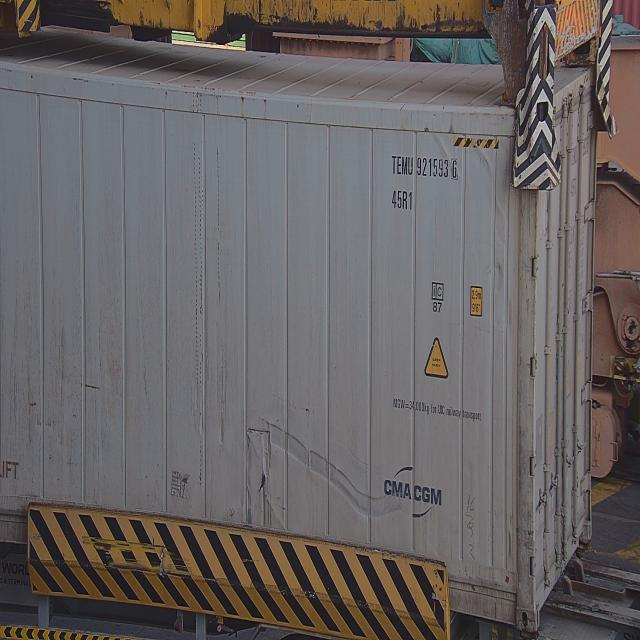dent: (241, 404, 389, 519)
